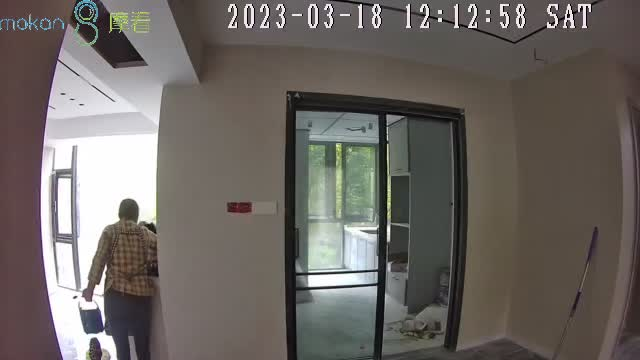people: (82, 198, 157, 360)
window: (292, 101, 455, 358)
